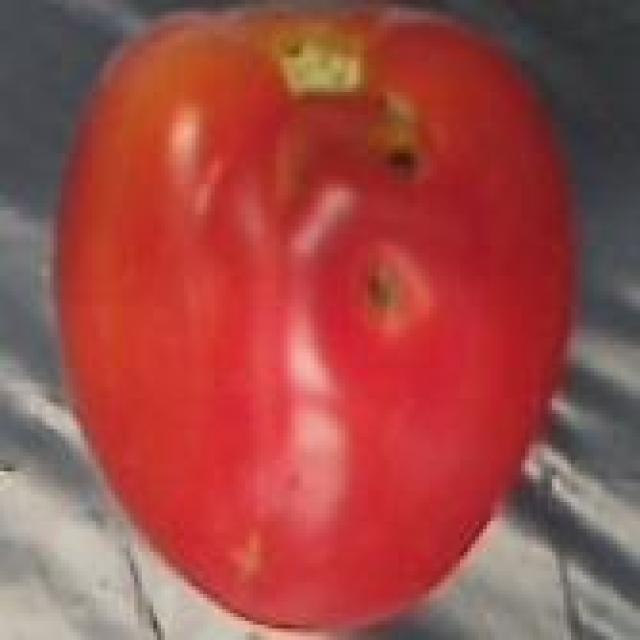overripe tomato: (69, 4, 586, 640)
